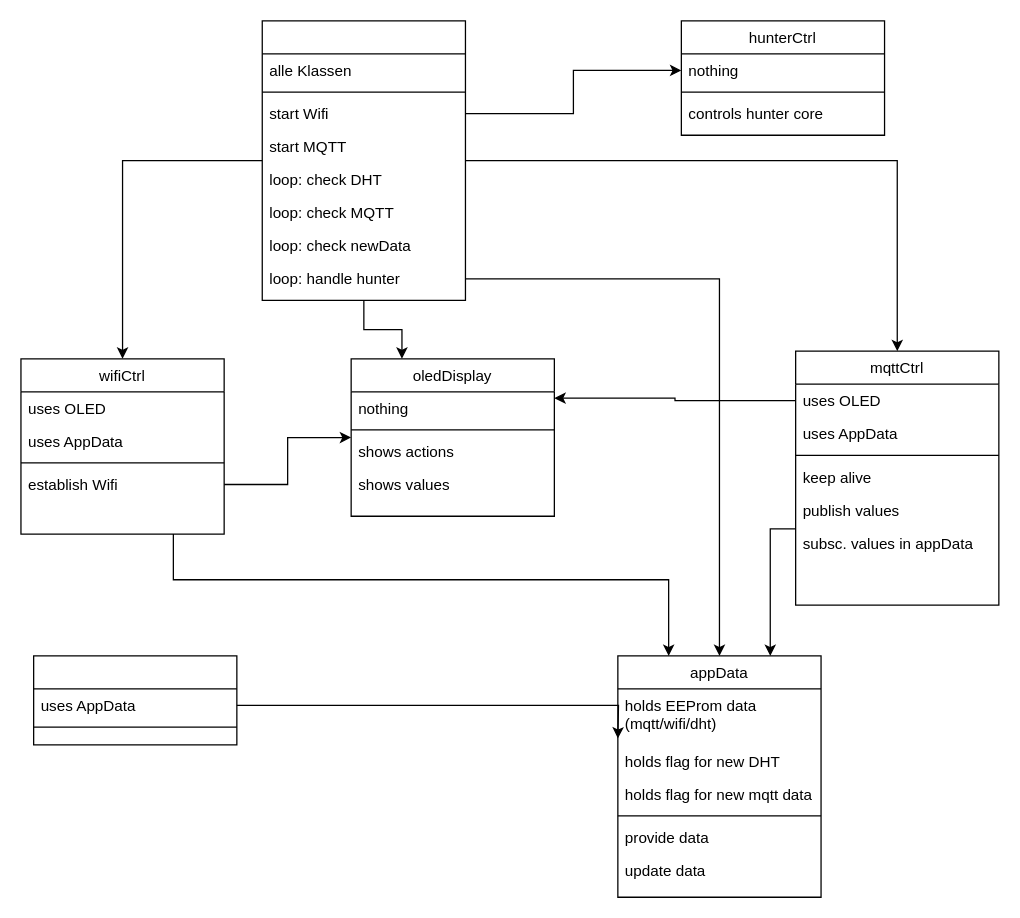
This 1020x918 diagram has some shape labels left out. The shapes that lost their labels are listed below. From the top down, each one's box as (x1, y1, x2, y2) in pixels, then its label:
(261, 20, 465, 300): Main
(32, 655, 237, 745): dhtSensor
